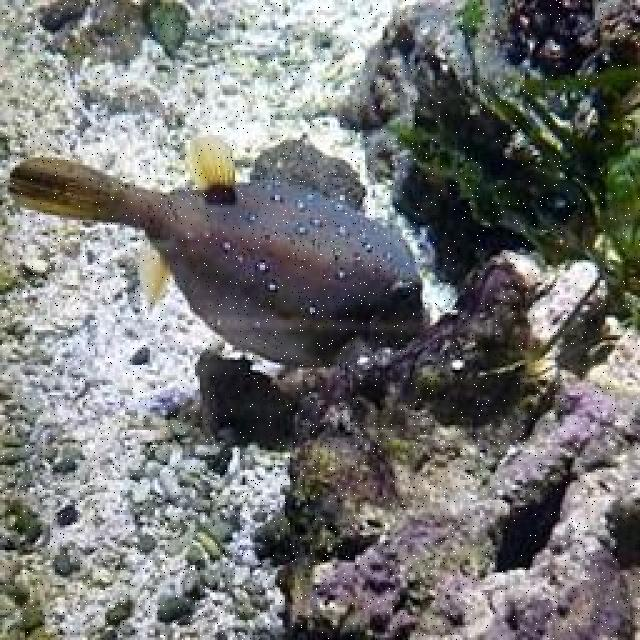fish: (5, 136, 428, 368)
sea-floor: (196, 247, 638, 638), (280, 2, 638, 318), (27, 0, 192, 76)
